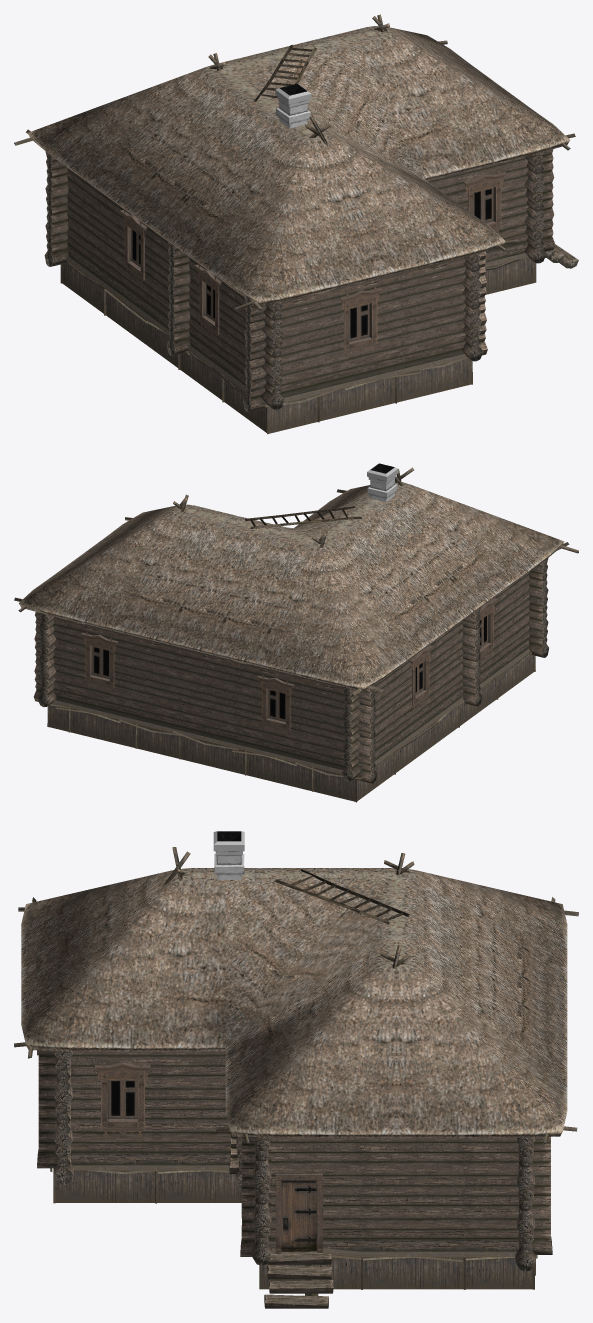
The model's file is house_2.fbx.
The picture shows the model from 3 angles, top to bottom: view 1: azimuth 30°, elevation 25°; view 2: azimuth 150°, elevation 25°; view 3: azimuth 270°, elevation 25°; orthographic projection. The views are drawn at different scales.
Parts seen in each view (by area): view 1: House_2; view 2: House_2; view 3: House_2.
Boxes of the visible parts, x1=… form: House_2: x1=14, y1=14, x2=578, y2=434; House_2: x1=14, y1=463, x2=578, y2=802; House_2: x1=14, y1=831, x2=578, y2=1308.
Size of the model in its own units: 1452 by 830 by 1379.
1 material, 1 textured.
